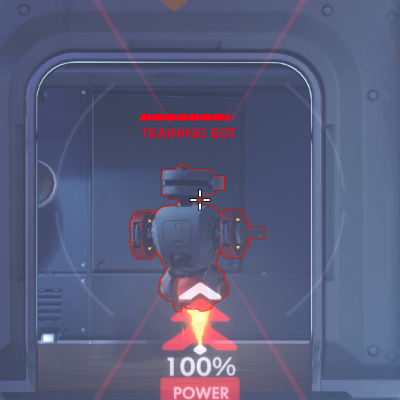hpbar: (139, 113, 237, 122)
